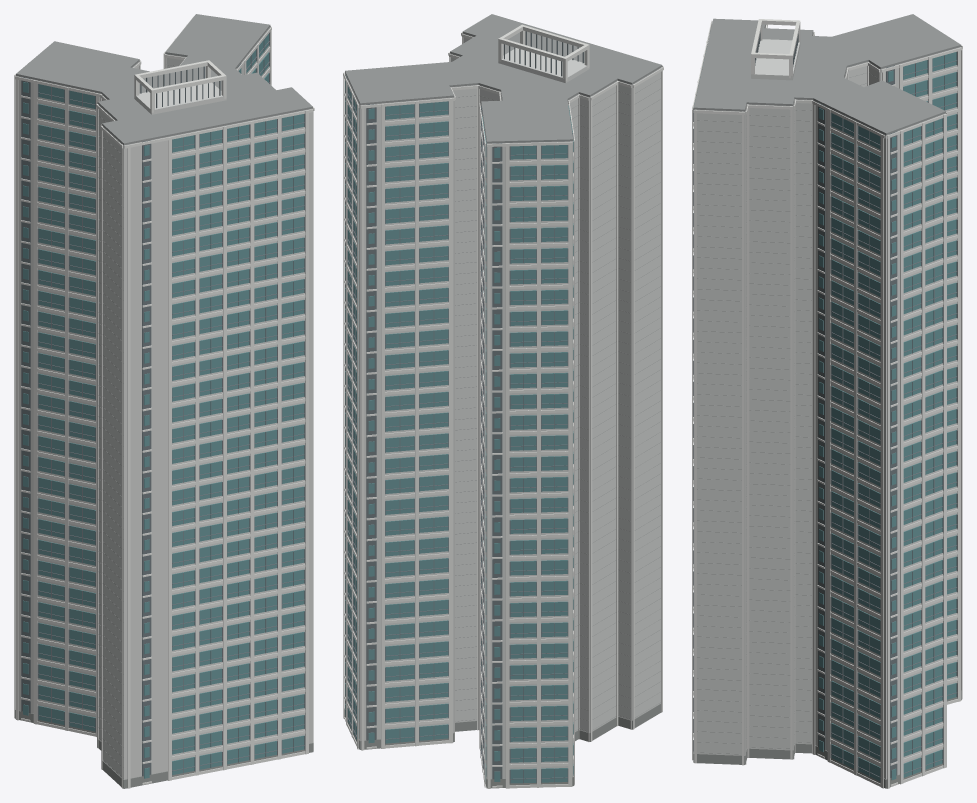
Rendered from bespoke-banpo-riche-103.glb.
3 renders of one model, left to right at view 1: azimuth 30°, elevation 25°; view 2: azimuth 150°, elevation 25°; view 3: azimuth 270°, elevation 25°, orthographic.
Parts seen in each view (by area): view 1: Riche103_editable_Riche103_teal_rectangular_grouped_windows, Riche103_editable_Riche103_light_grey_solid_wall, Riche103_editable_Riche103_broad_white_facade_frames, Riche103_editable_Riche103_dark_horizontal_spandrels_and_mul, Riche103_editable_Riche103_modest_grey_flat_roof_caps, Riche103_editable_Riche103_dark_recessed_service_strip, Riche103_editable_Riche103_muted_ground_wall; view 2: Riche103_editable_Riche103_light_grey_solid_wall, Riche103_editable_Riche103_broad_white_facade_frames, Riche103_editable_Riche103_teal_rectangular_grouped_windows, Riche103_editable_Riche103_modest_grey_flat_roof_caps, Riche103_editable_Riche103_dark_horizontal_spandrels_and_mul, Riche103_editable_Riche103_dark_recessed_service_strip, Riche103_editable_Riche103_muted_ground_wall; view 3: Riche103_editable_Riche103_light_grey_solid_wall, Riche103_editable_Riche103_broad_white_facade_frames, Riche103_editable_Riche103_teal_rectangular_grouped_windows, Riche103_editable_Riche103_modest_grey_flat_roof_caps, Riche103_editable_Riche103_dark_horizontal_spandrels_and_mul, Riche103_editable_Riche103_dark_recessed_service_strip, Riche103_editable_Riche103_muted_ground_wall.
Part boxes in pixels (bbox=[...]): Riche103_editable_Riche103_teal_rectangular_grouped_windows: bbox=[23, 34, 304, 778]; Riche103_editable_Riche103_light_grey_solid_wall: bbox=[16, 27, 312, 779]; Riche103_editable_Riche103_broad_white_facade_frames: bbox=[14, 15, 314, 788]; Riche103_editable_Riche103_dark_horizontal_spandrels_and_mul: bbox=[37, 32, 305, 775]; Riche103_editable_Riche103_modest_grey_flat_roof_caps: bbox=[16, 14, 312, 776]; Riche103_editable_Riche103_dark_recessed_service_strip: bbox=[21, 63, 241, 776]; Riche103_editable_Riche103_muted_ground_wall: bbox=[15, 710, 313, 788]; Riche103_editable_Riche103_light_grey_solid_wall: bbox=[345, 33, 661, 779]; Riche103_editable_Riche103_broad_white_facade_frames: bbox=[343, 24, 663, 788]; Riche103_editable_Riche103_teal_rectangular_grouped_windows: bbox=[345, 81, 573, 783]; Riche103_editable_Riche103_modest_grey_flat_roof_caps: bbox=[345, 14, 662, 731]; Riche103_editable_Riche103_dark_horizontal_spandrels_and_mul: bbox=[347, 85, 572, 783]; Riche103_editable_Riche103_dark_recessed_service_strip: bbox=[345, 31, 583, 779]; Riche103_editable_Riche103_muted_ground_wall: bbox=[344, 703, 660, 788]; Riche103_editable_Riche103_light_grey_solid_wall: bbox=[694, 25, 960, 779]; Riche103_editable_Riche103_broad_white_facade_frames: bbox=[692, 19, 962, 788]; Riche103_editable_Riche103_teal_rectangular_grouped_windows: bbox=[694, 48, 956, 781]; Riche103_editable_Riche103_modest_grey_flat_roof_caps: bbox=[694, 14, 961, 754]; Riche103_editable_Riche103_dark_horizontal_spandrels_and_mul: bbox=[693, 51, 957, 781]; Riche103_editable_Riche103_dark_recessed_service_strip: bbox=[710, 29, 897, 777]; Riche103_editable_Riche103_muted_ground_wall: bbox=[693, 690, 961, 788].
Bounding box in the file's own units: 34.13 × 89.6 × 32.37.
